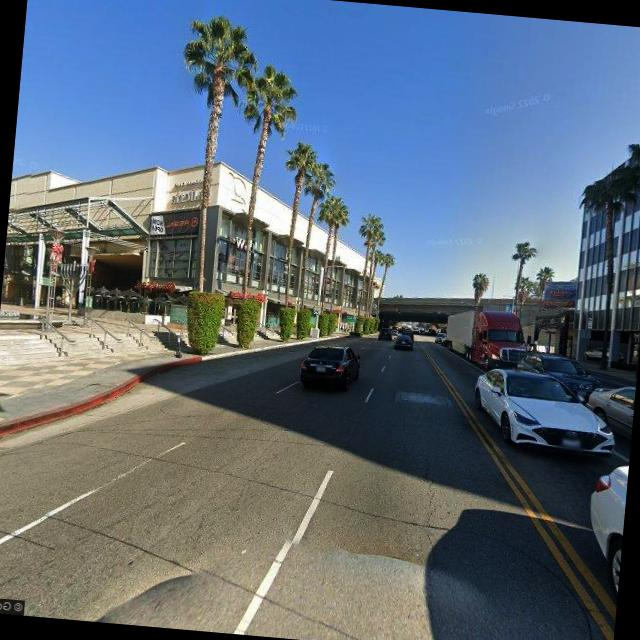pothole: (414, 452, 448, 546)
